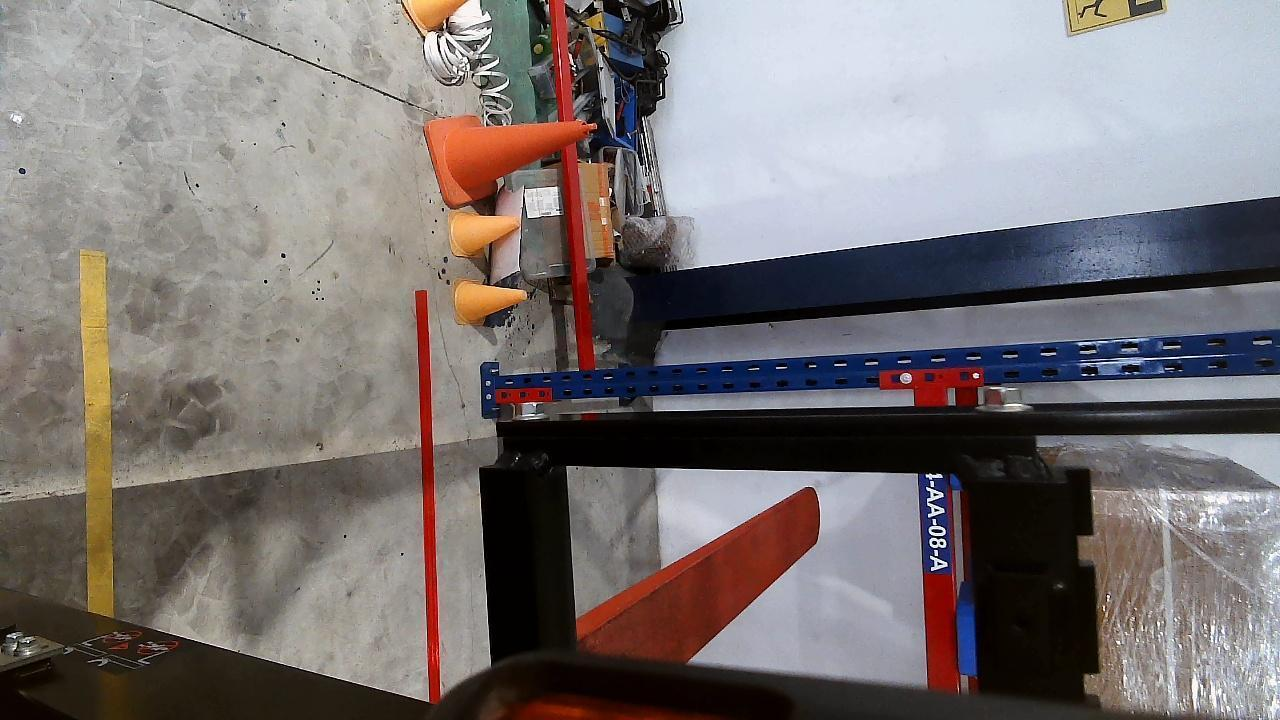red_line: (414, 290, 445, 703)
yellow_line: (80, 250, 113, 618)
